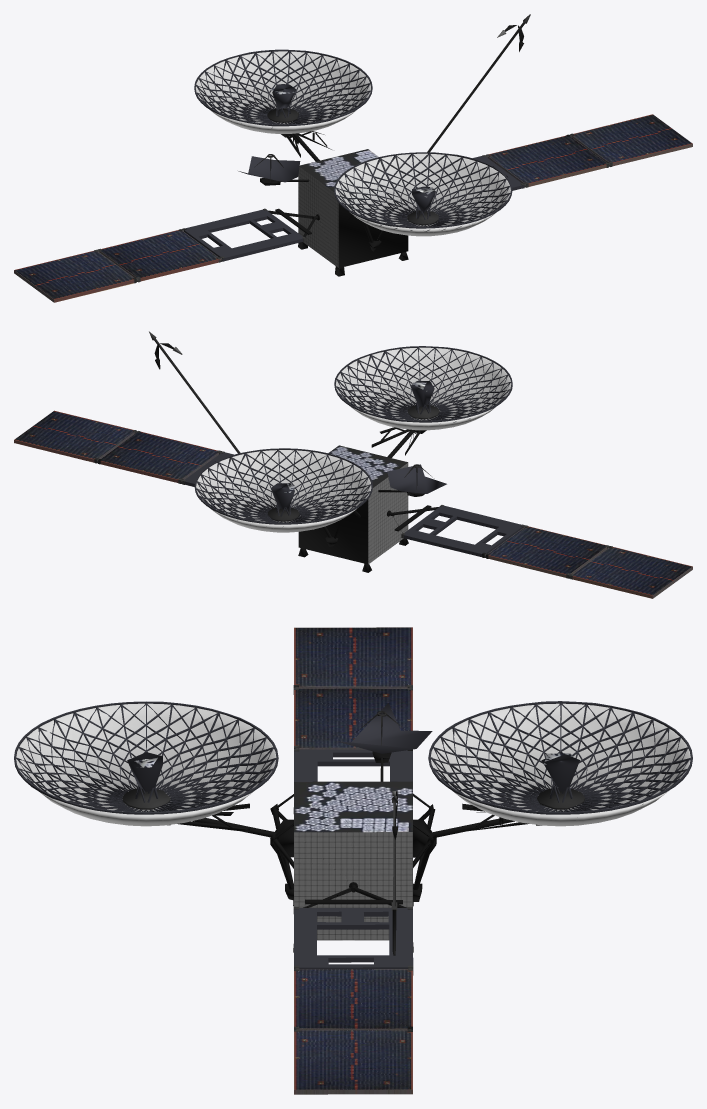
File: geo-satellite.glb
The picture shows the model from 3 angles, top to bottom: view 1: azimuth 30°, elevation 25°; view 2: azimuth 150°, elevation 25°; view 3: azimuth 270°, elevation 25°; orthographic projection. The views are drawn at different scales.
Parts seen in each view (by area): view 1: tex_01, tex_02, black_krinkle, foil_silver; view 2: tex_01, tex_02, black_krinkle, foil_silver; view 3: tex_01, tex_02, black_krinkle, foil_silver.
Boxes of the visible parts, left/top/right/bottom form: tex_01: left=14, top=49, right=692, bottom=302; tex_02: left=195, top=51, right=510, bottom=236; black_krinkle: left=260, top=25, right=523, bottom=276; foil_silver: left=94, top=14, right=612, bottom=283; tex_01: left=14, top=346, right=692, bottom=598; tex_02: left=196, top=347, right=511, bottom=532; black_krinkle: left=154, top=343, right=439, bottom=572; foil_silver: left=94, top=331, right=612, bottom=579; tex_01: left=14, top=627, right=692, bottom=1094; tex_02: left=16, top=703, right=690, bottom=826; black_krinkle: left=167, top=751, right=541, bottom=952; foil_silver: left=122, top=685, right=584, bottom=1031.
Bounding box in the file's own units: 21.12 × 5.76 × 13.11.
4 materials, 3 textured.
